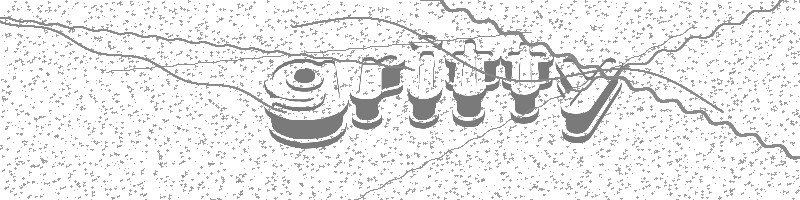g: (259, 56, 348, 147)
i: (407, 33, 443, 131)
r: (351, 54, 405, 130)
t: (444, 37, 501, 127), (501, 37, 555, 130)
y: (553, 54, 624, 142)
